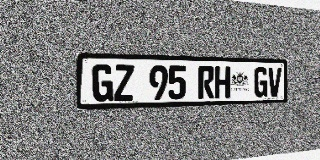5: (168, 65, 186, 100)
9: (149, 65, 168, 100)
G: (92, 64, 113, 102), (254, 67, 268, 97)
H: (215, 66, 230, 98)
R: (198, 66, 214, 99)
V: (268, 67, 282, 97)
Z: (114, 64, 134, 101)
